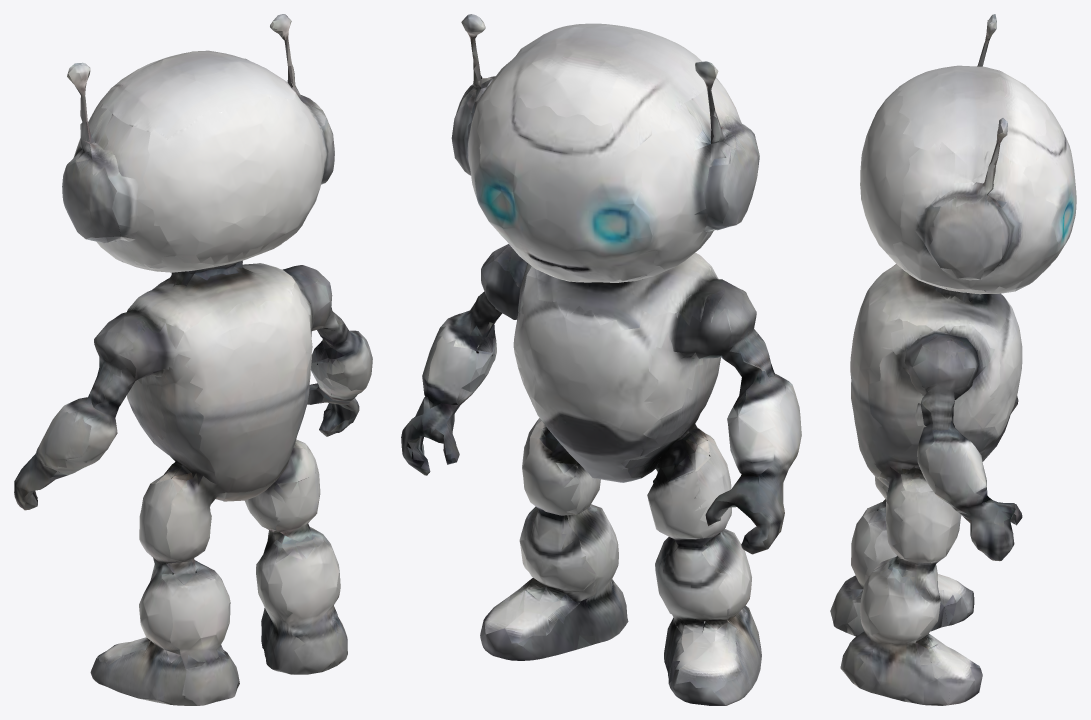
File: ca5cca00-a09d-464e-8b54-4ad849b0e922.glb
3 views of the same model, side by side, from view 1: azimuth 30°, elevation 25°; view 2: azimuth 150°, elevation 25°; view 3: azimuth 270°, elevation 25° (orthographic). The views are drawn at different scales.
Visible parts, largest first — view 1: world; view 2: world; view 3: world.
Boxes of the visible parts, bbox=[...] form: world: bbox=[14, 14, 372, 705]; world: bbox=[401, 14, 801, 705]; world: bbox=[830, 14, 1076, 705].
Bounding box in the file's own units: 0.4857 × 0.8209 × 0.3117.
1 material, 1 textured.
